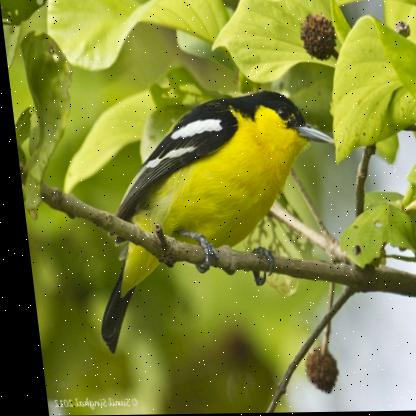Burung: (71, 91, 351, 354)
